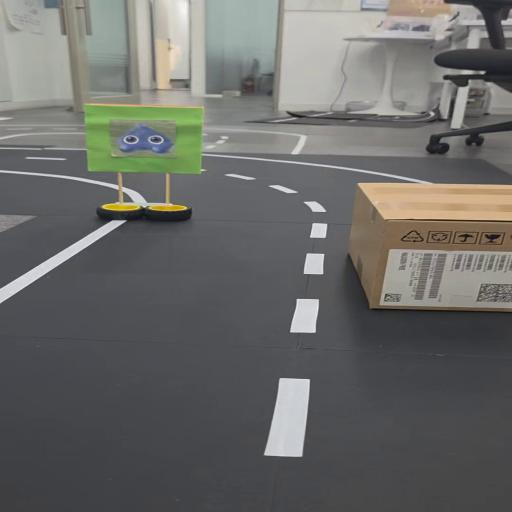Box: (352, 176, 512, 318)
Sign_B: (66, 98, 218, 235)
